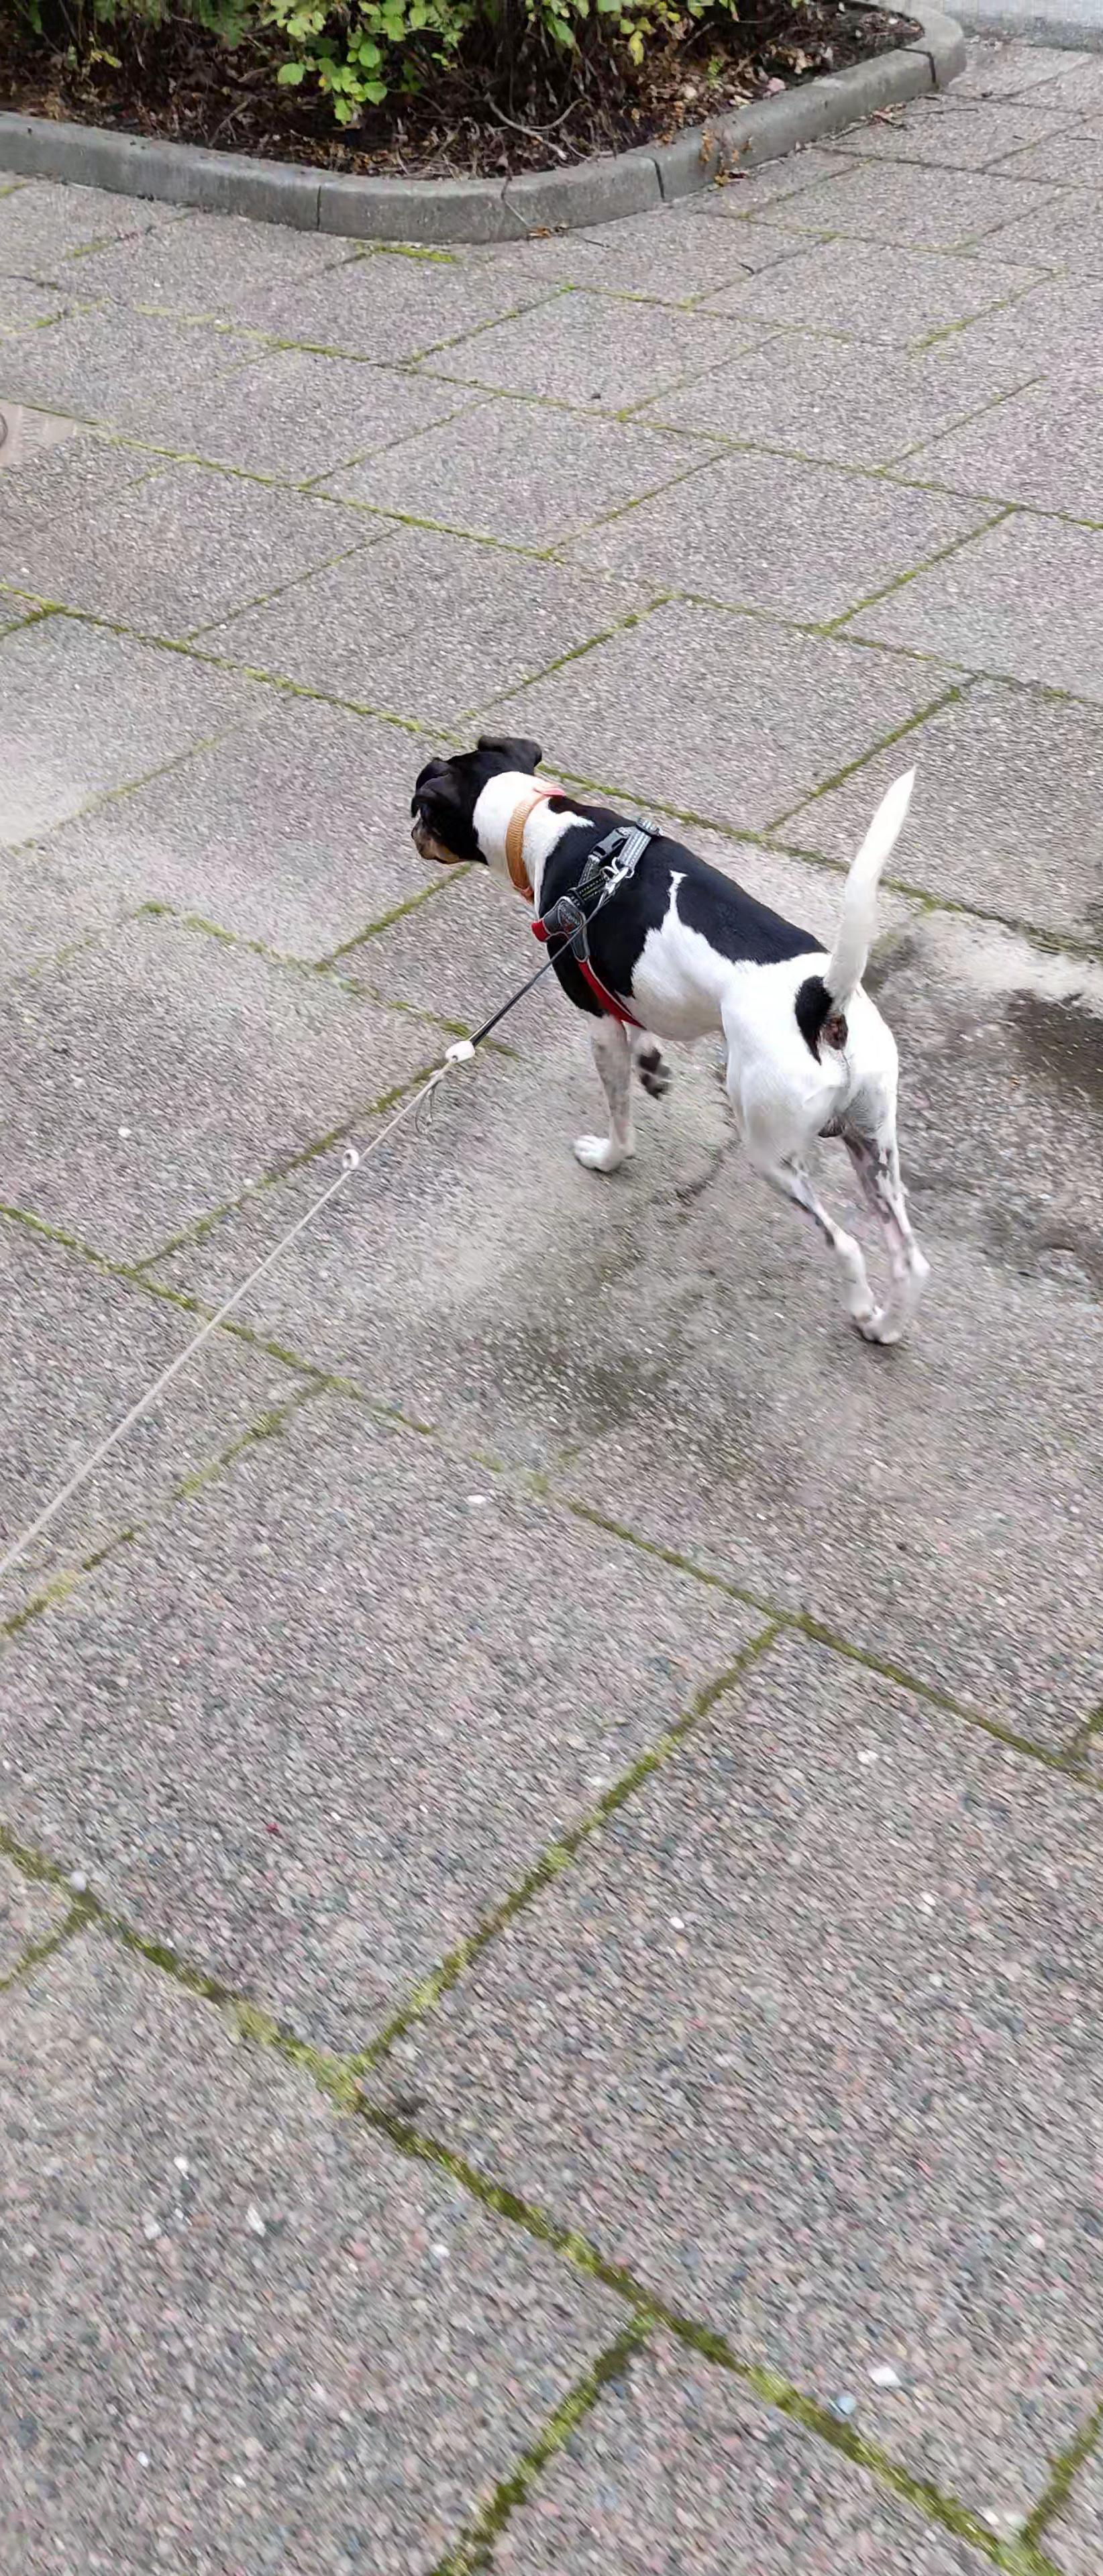Dog: (395, 724, 935, 1355)
